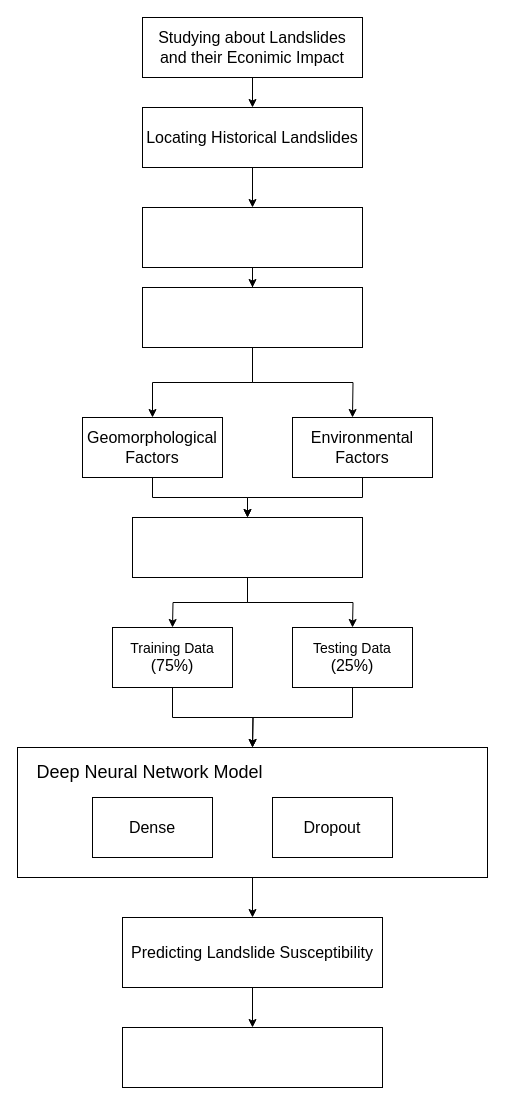
This 505x1105 diagram has some shape labels left out. Each missing label, with the centre of its shape:
Classification of Infllulencing Factors: the point at 252,317
Dataset Preparation: the point at 247,547
Evaluation of Results (Confusion Matrix, ROC curve): the point at 252,1057
Identifying Landslide Influencing Factors: the point at 252,237
